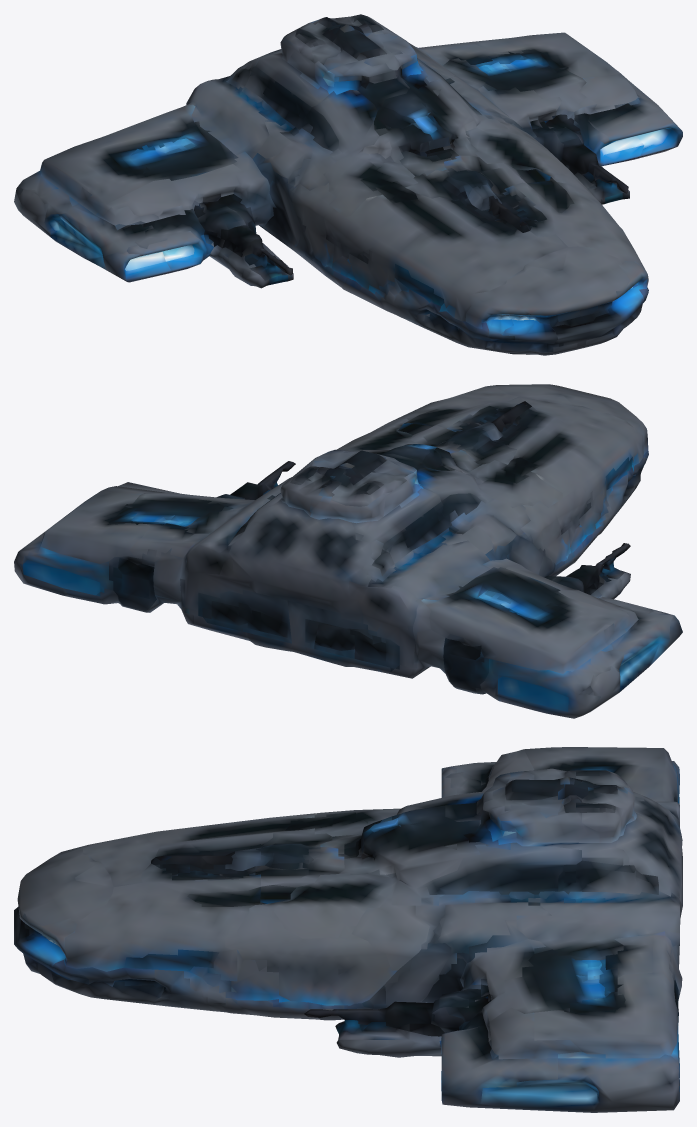
The model's file is alliance_destroyer_lod2.glb.
3 renders of one model, top to bottom at view 1: azimuth 30°, elevation 25°; view 2: azimuth 150°, elevation 25°; view 3: azimuth 270°, elevation 25°, orthographic. The views are drawn at different scales.
Visible parts, largest first — view 1: model; view 2: model; view 3: model.
Part boxes in pixels (x1=…): model: x1=14, y1=14, x2=682, y2=355; model: x1=14, y1=384, x2=682, y2=718; model: x1=14, y1=747, x2=682, y2=1112.
Size of the model in its own units: 1.9 by 0.5106 by 1.64.
1 material, 1 textured.
